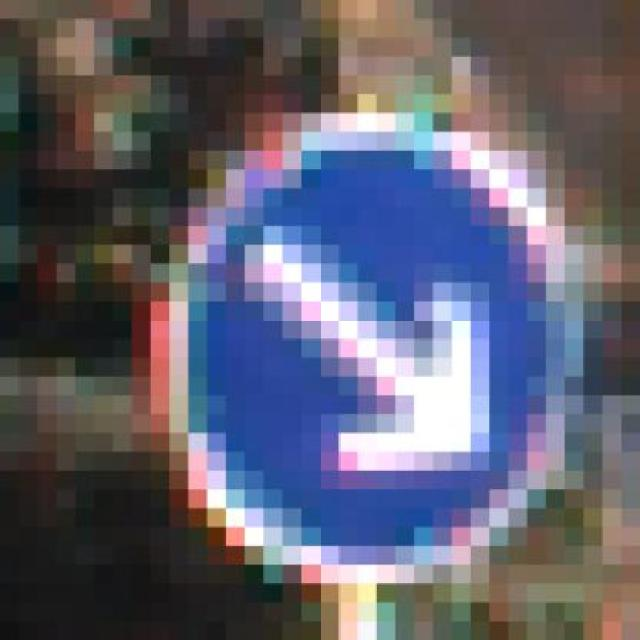Keep-Right: (150, 75, 602, 602)
